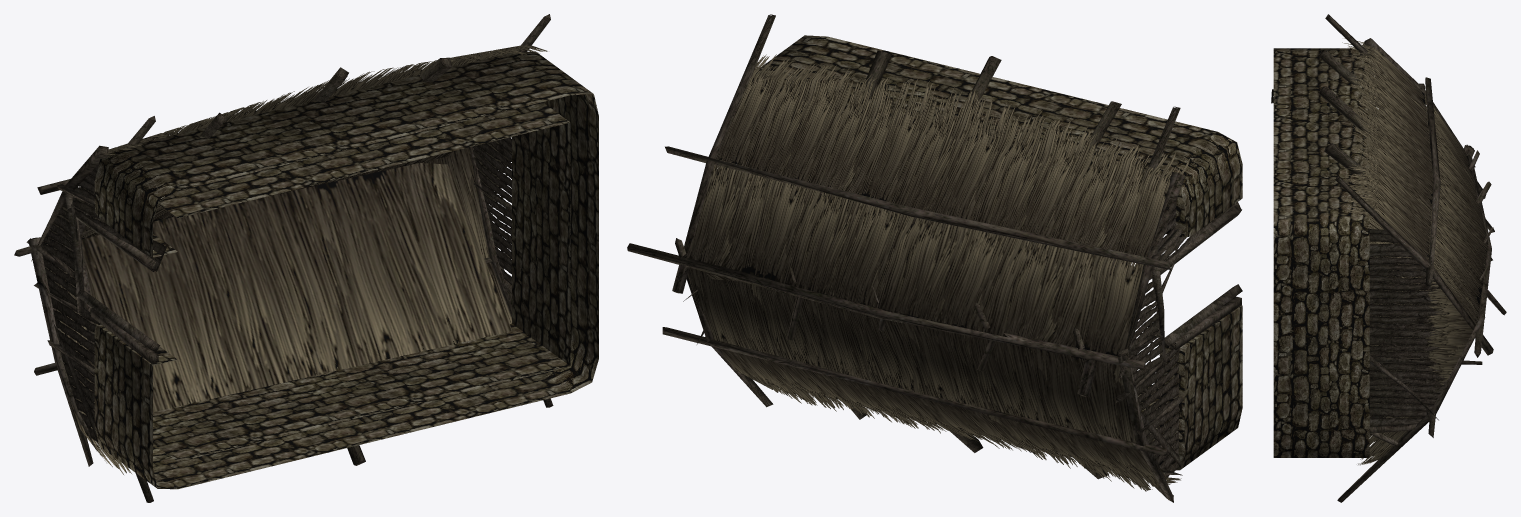
File: MEP_Shack_02_LOD_02.fbx
The picture shows the model from 3 angles, left to right: view 1: azimuth 30°, elevation 25°; view 2: azimuth 150°, elevation 25°; view 3: azimuth 270°, elevation 25°; orthographic projection. The views are drawn at different scales.
Parts seen in each view (by area): view 1: MEP_Shack_02_StoneWall_LOD_02, MEP_Shack_02_LOD_02; view 2: MEP_Shack_02_LOD_02, MEP_Shack_02_StoneWall_LOD_02; view 3: MEP_Shack_02_LOD_02, MEP_Shack_02_StoneWall_LOD_02.
Boxes of the visible parts, box(x1,y1,x2,y2) form: MEP_Shack_02_StoneWall_LOD_02: box(94, 51, 598, 489); MEP_Shack_02_LOD_02: box(14, 14, 553, 502); MEP_Shack_02_LOD_02: box(627, 14, 1242, 502); MEP_Shack_02_StoneWall_LOD_02: box(755, 35, 1242, 470); MEP_Shack_02_LOD_02: box(1271, 14, 1506, 502); MEP_Shack_02_StoneWall_LOD_02: box(1273, 48, 1369, 457).
Size of the model in its own units: 11.46 by 8.57 by 5.52.
